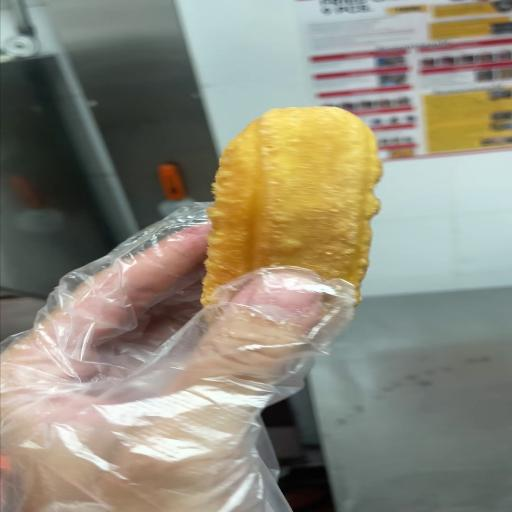brand_golden_good: (201, 107, 380, 306)
